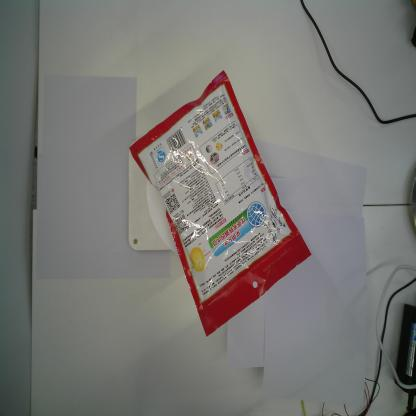Instant Drink: (128, 69, 312, 338)
